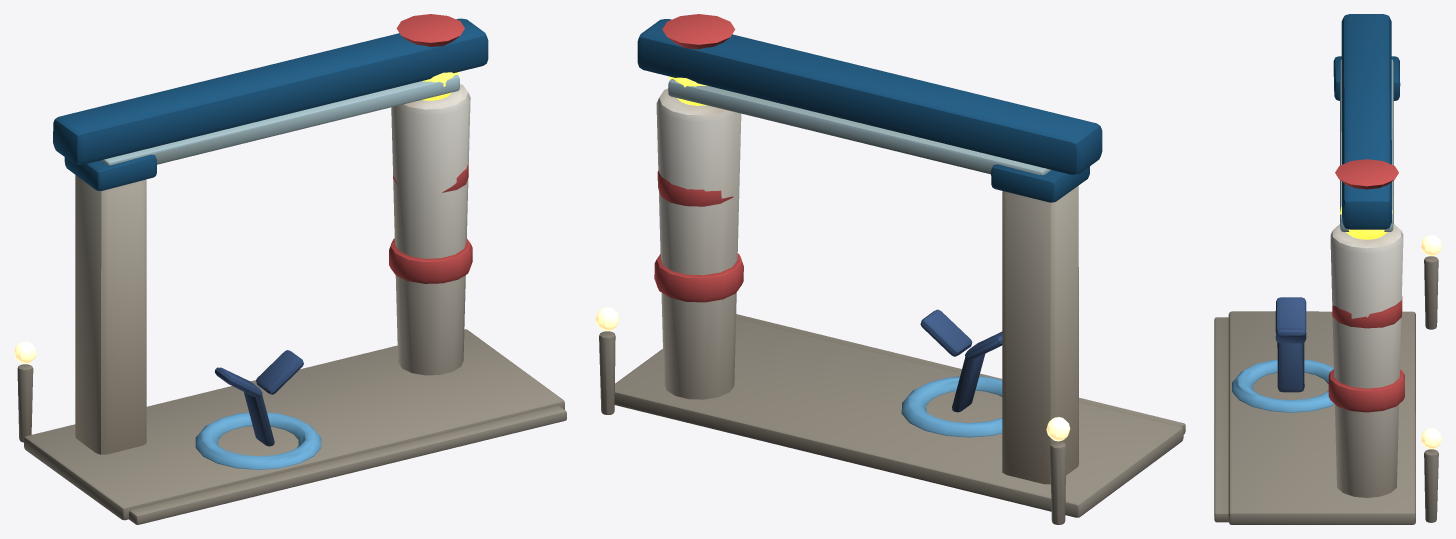
The picture shows the model from 3 angles, left to right: view 1: azimuth 30°, elevation 25°; view 2: azimuth 150°, elevation 25°; view 3: azimuth 270°, elevation 25°; orthographic projection. The views are drawn at different scales.
Parts seen in each view (by area): view 1: gate_1dd2908a; view 2: gate_1dd2908a; view 3: gate_1dd2908a.
Part boxes in pixels (x1=…): gate_1dd2908a: x1=14, y1=14, x2=566, y2=524; gate_1dd2908a: x1=595, y1=14, x2=1185, y2=524; gate_1dd2908a: x1=1214, y1=14, x2=1441, y2=524.
Size of the model in its own units: 5.38 by 4.03 by 2.54.
